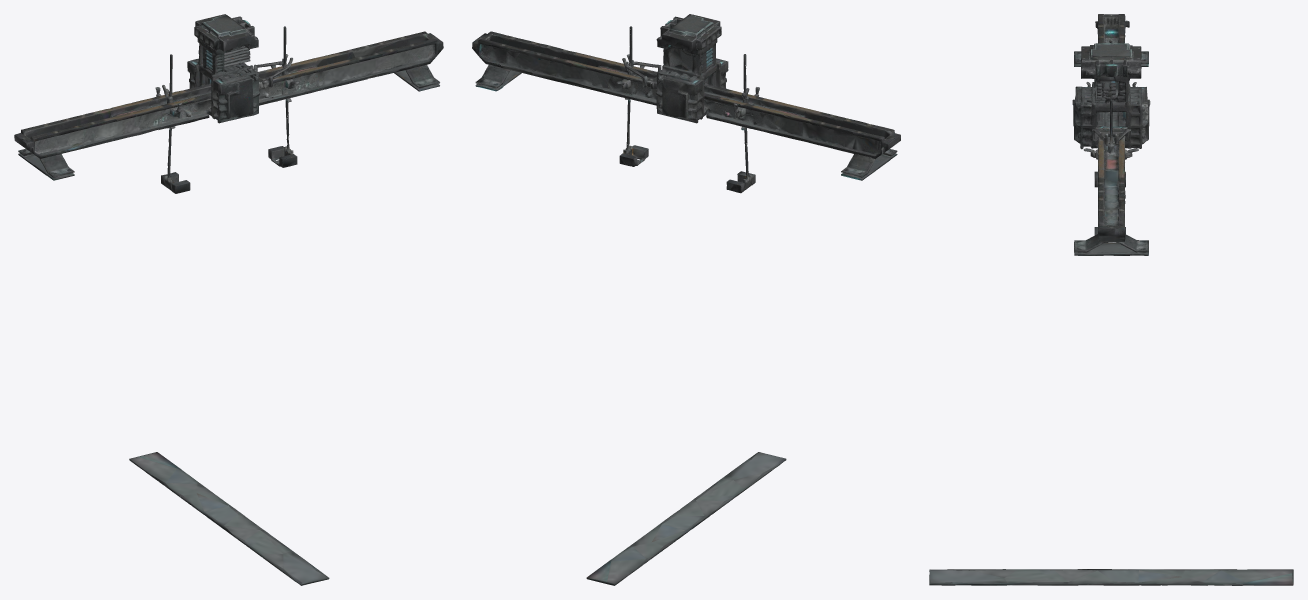
The model's file is make.glb.
3 views of the same model, side by side, from view 1: azimuth 30°, elevation 25°; view 2: azimuth 150°, elevation 25°; view 3: azimuth 270°, elevation 25° (orthographic). The views are drawn at different scales.
Visible parts, largest first — view 1: Mesh_0; view 2: Mesh_0; view 3: Mesh_0.
Part boxes in pixels (x1=…): Mesh_0: x1=14, y1=14, x2=443, y2=585; Mesh_0: x1=472, y1=14, x2=900, y2=585; Mesh_0: x1=929, y1=14, x2=1293, y2=585.
Bounding box in the file's own units: 1.67 × 1.9 × 1.2.
Materials: 1 (1 with a texture image).
